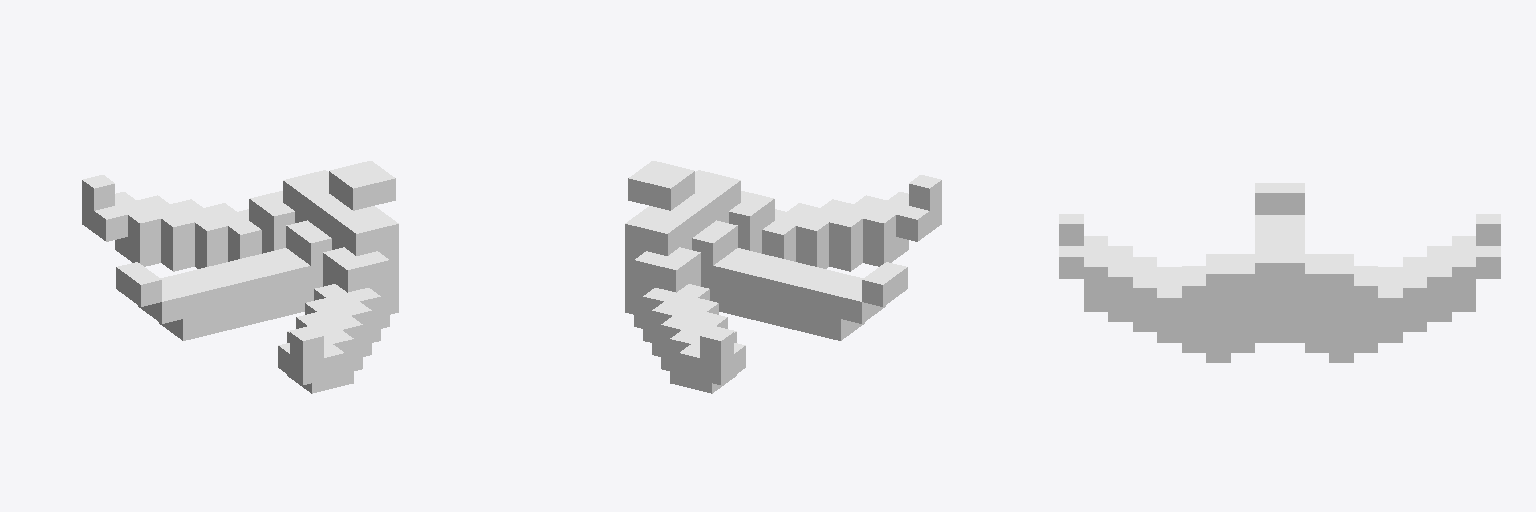
Rendered from Triple_Banana.obj.
3 views of the same model, side by side, from view 1: azimuth 30°, elevation 25°; view 2: azimuth 150°, elevation 25°; view 3: azimuth 270°, elevation 25° (orthographic).
Visible parts, largest first — view 1: object 1; view 2: object 1; view 3: object 1.
Part boxes in pixels (x1,y1,x2,y2): object 1: (82, 161, 398, 393); object 1: (625, 161, 941, 393); object 1: (1059, 183, 1500, 362).
Size of the model in its own units: 1.2 by 0.5 by 1.8.